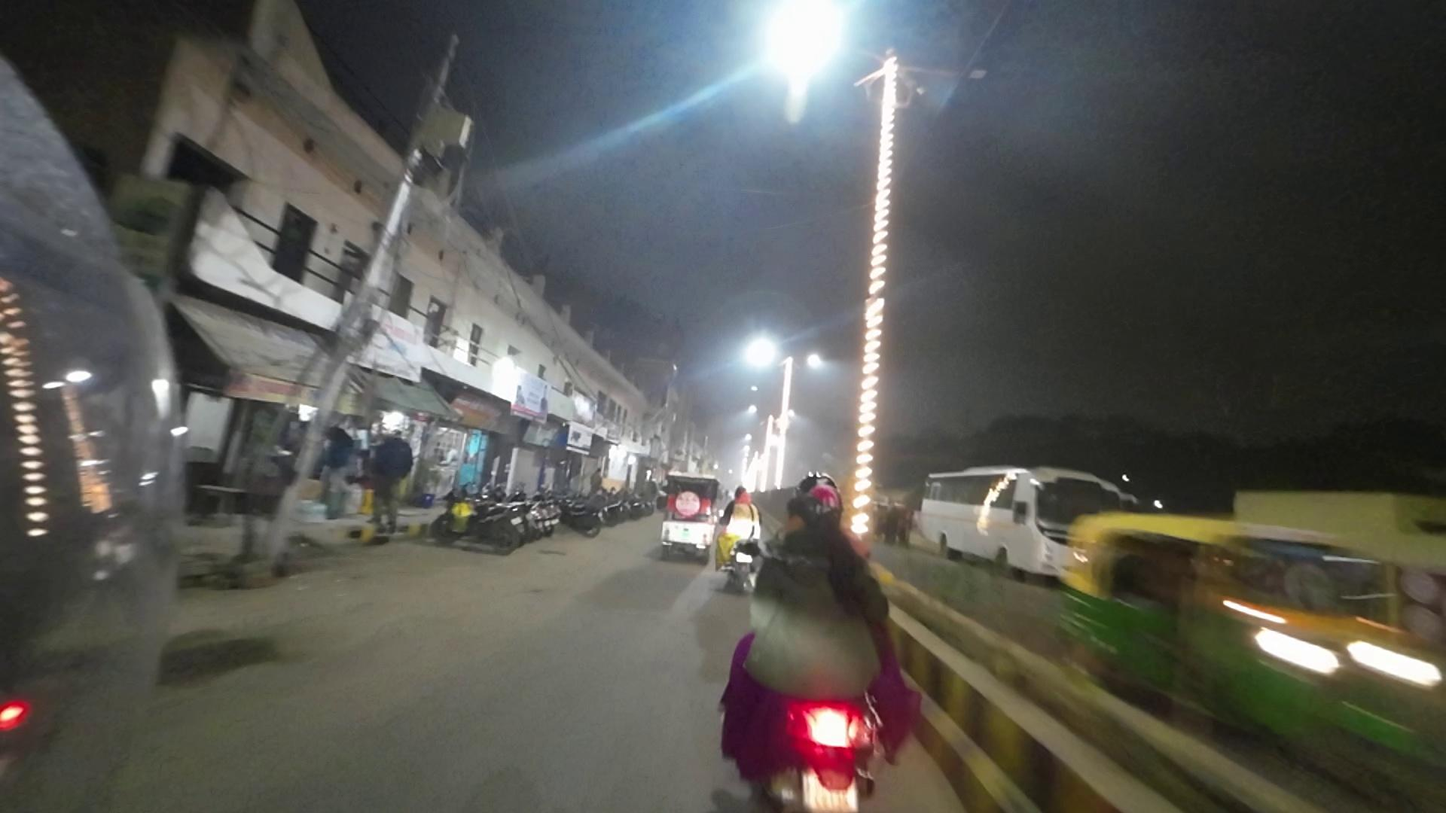streetlight: (911, 59, 989, 87)
